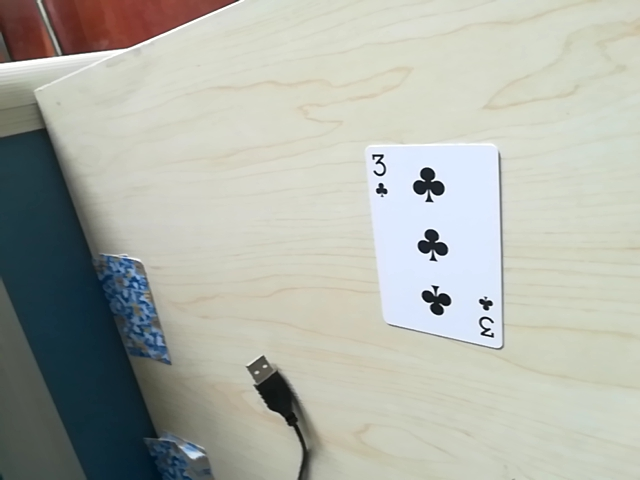mh 3: (368, 152, 406, 203), (470, 292, 498, 347)
